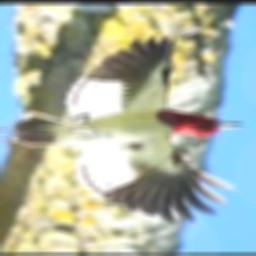Woodpecker: (1, 28, 244, 223)
